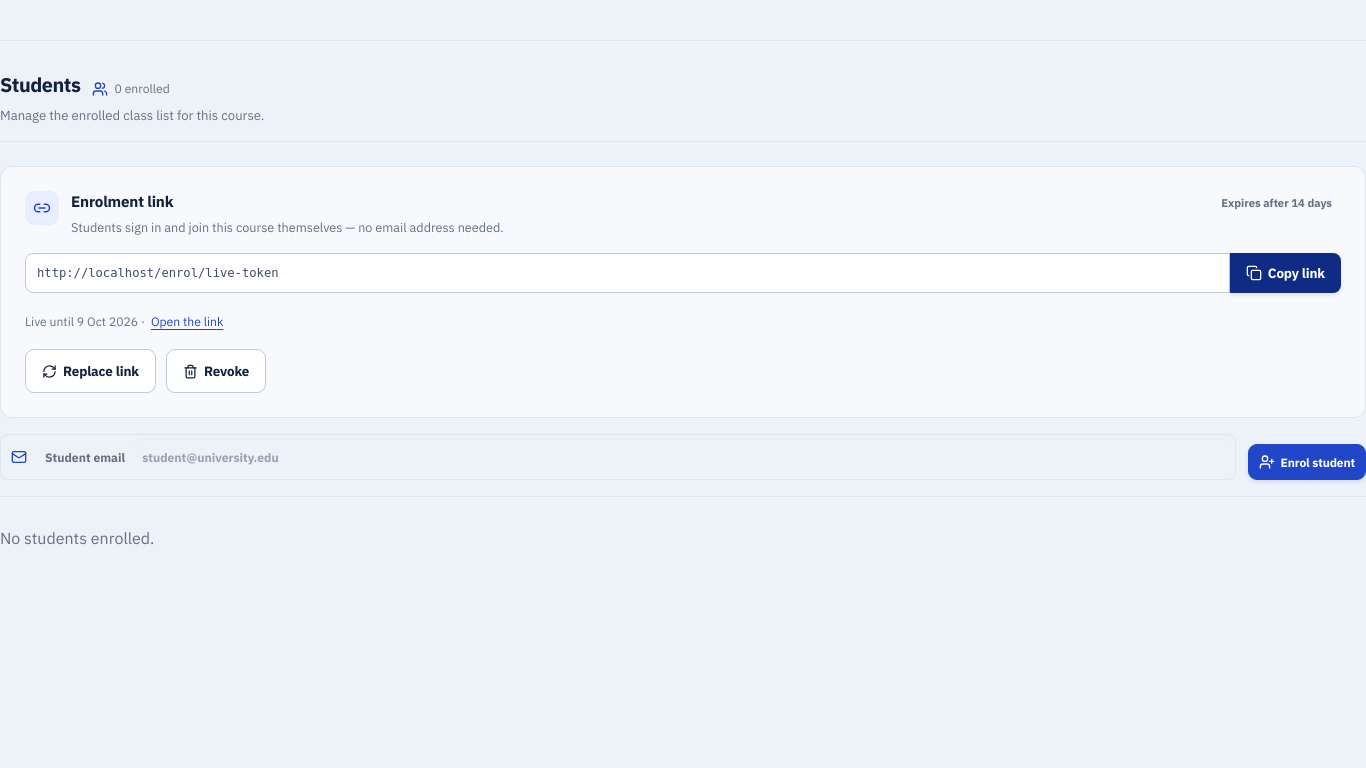
Test case: a live link can be replaced and revoked, and revoking asks first
This screenshot has width=1366, height=768.
Expected: the field named "Shareable enrolment link" is shown, x1=25 y1=253 x2=1230 y2=293
Click the button "Revoke": (216, 371) x1=166 y1=349 x2=266 y2=393
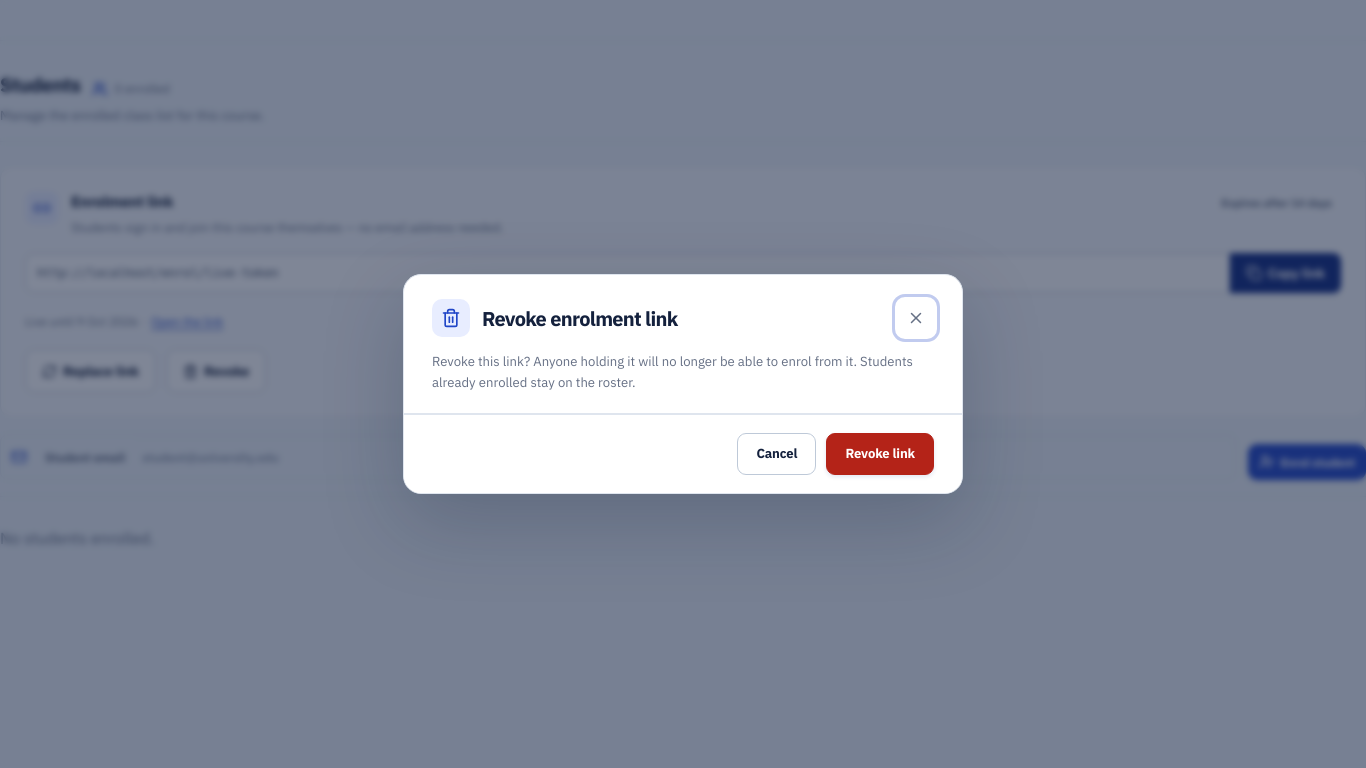
Now the dialog is shown, box x1=403 y1=274 x2=963 y2=494
Now the text "will no longer be able to enrol" is shown, box x1=432 y1=353 x2=913 y2=391
Click the button "Revoke link": (880, 454) x1=826 y1=433 x2=934 y2=475
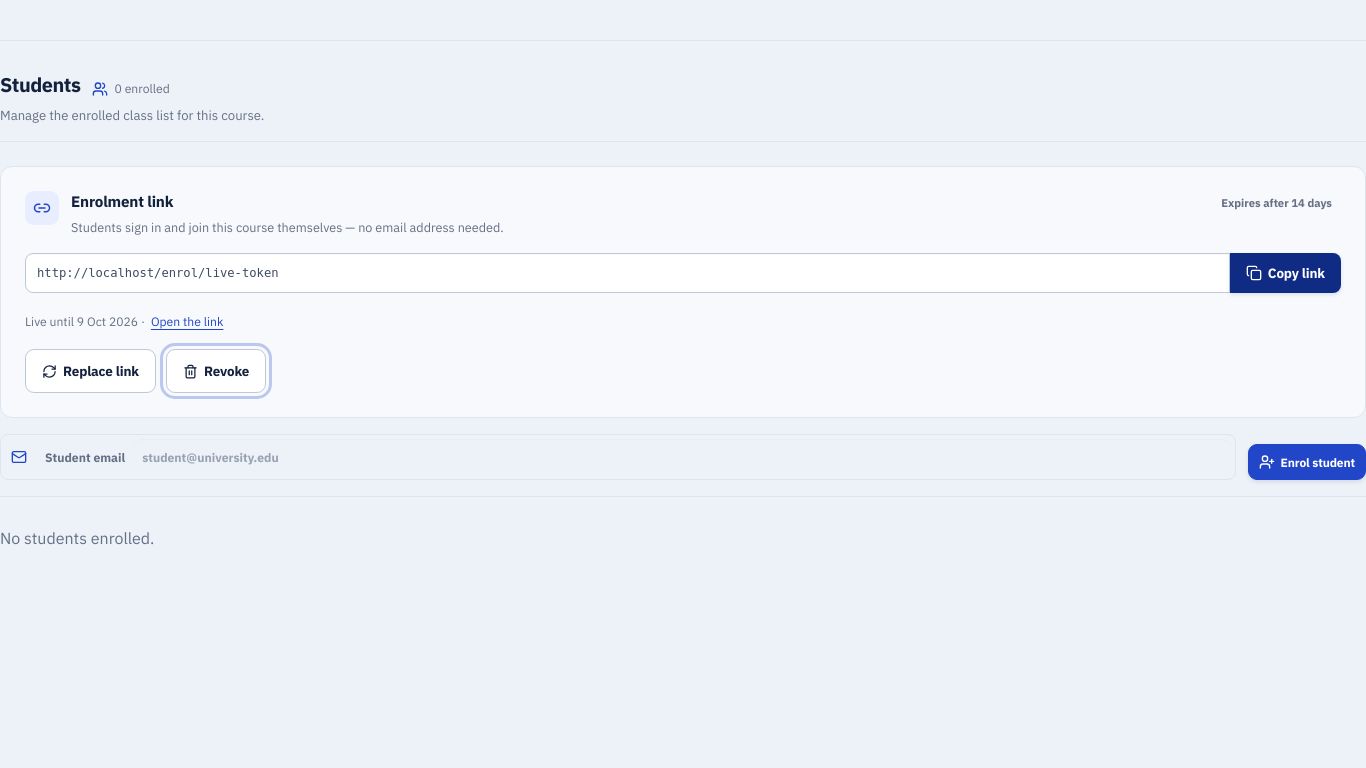
Now the dialog is gone
